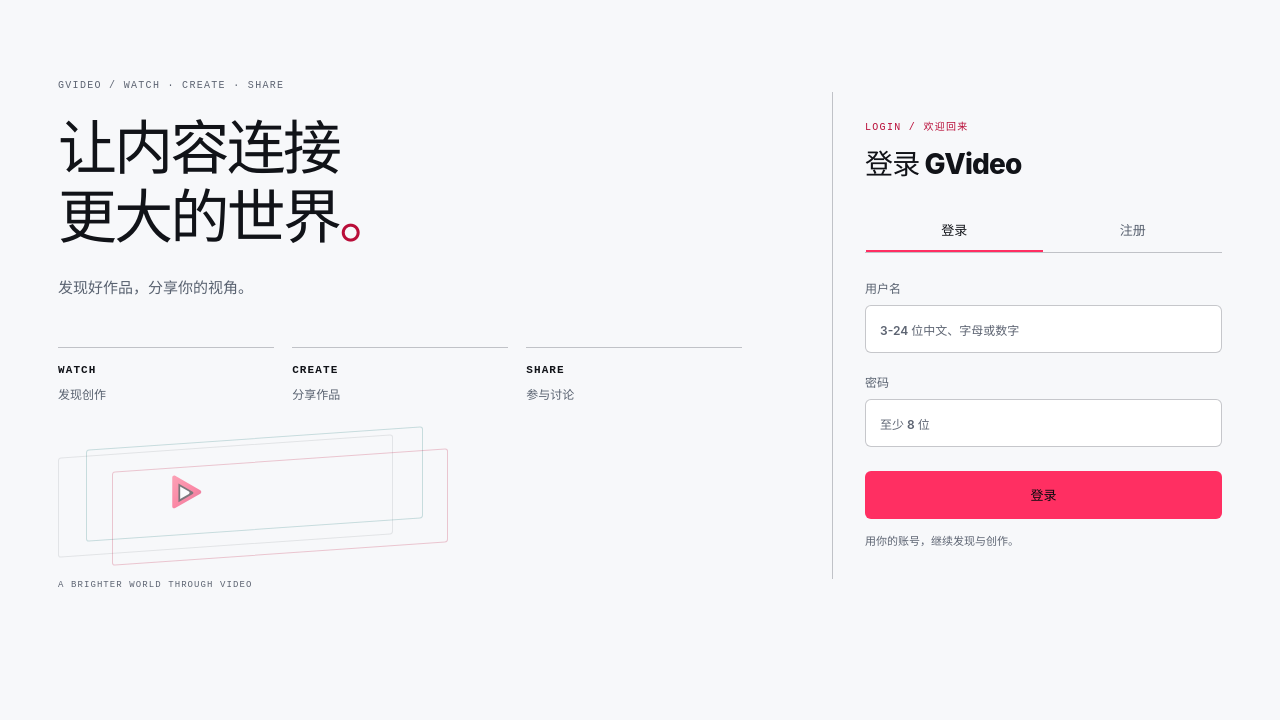
Scenario: AuthPage › keeps keyboard focus in the busy form and returns it to the original field after an error
This screenshot has width=1280, height=720.
Step 1. Type "测试用户" into the field labelled "用户名" → (1044, 329), box [865,305,1222,353]
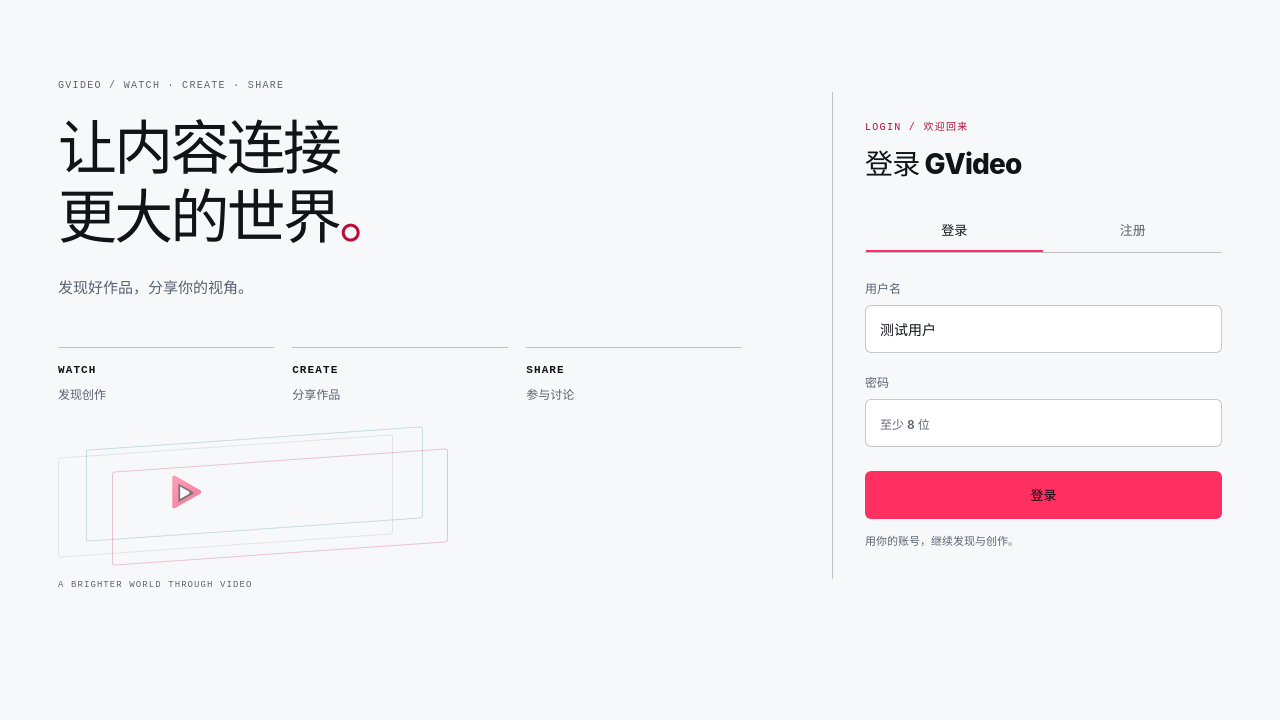
Step 2. Type "password123" into the password field labelled "密码" → (1044, 423), box [865,399,1222,447]
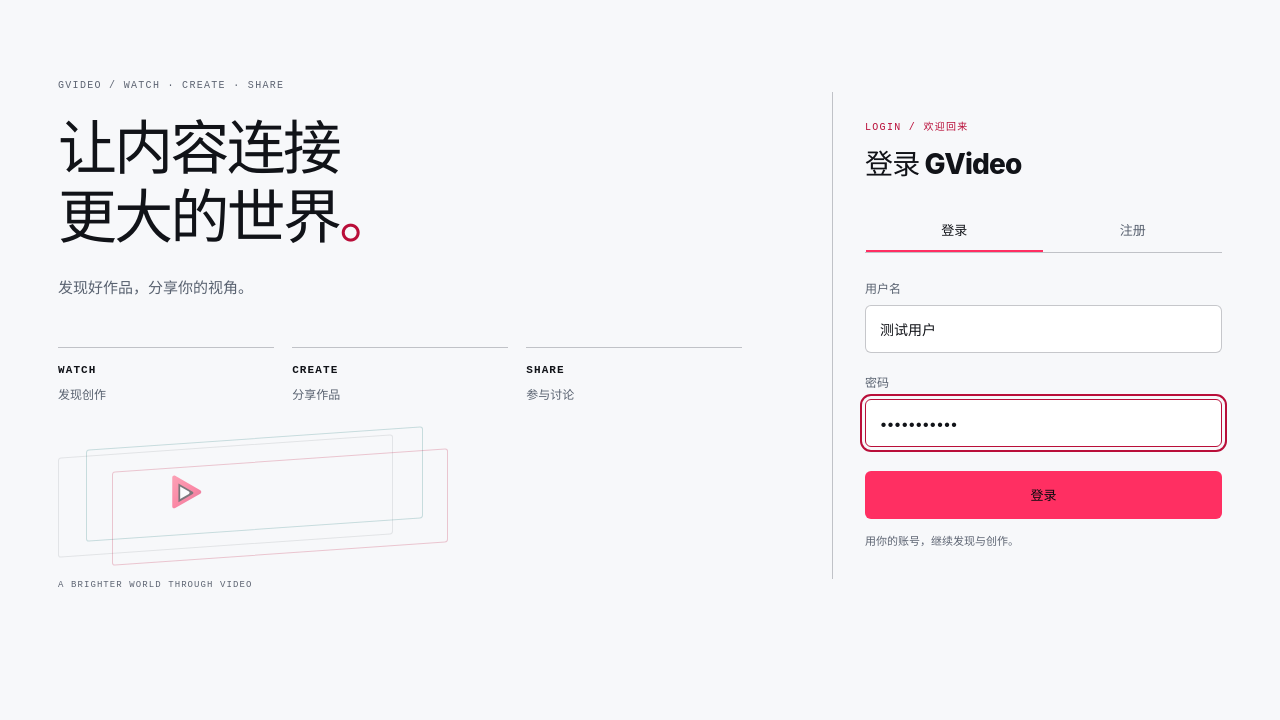
Step 3. Submit the form, box [865,279,1222,551]
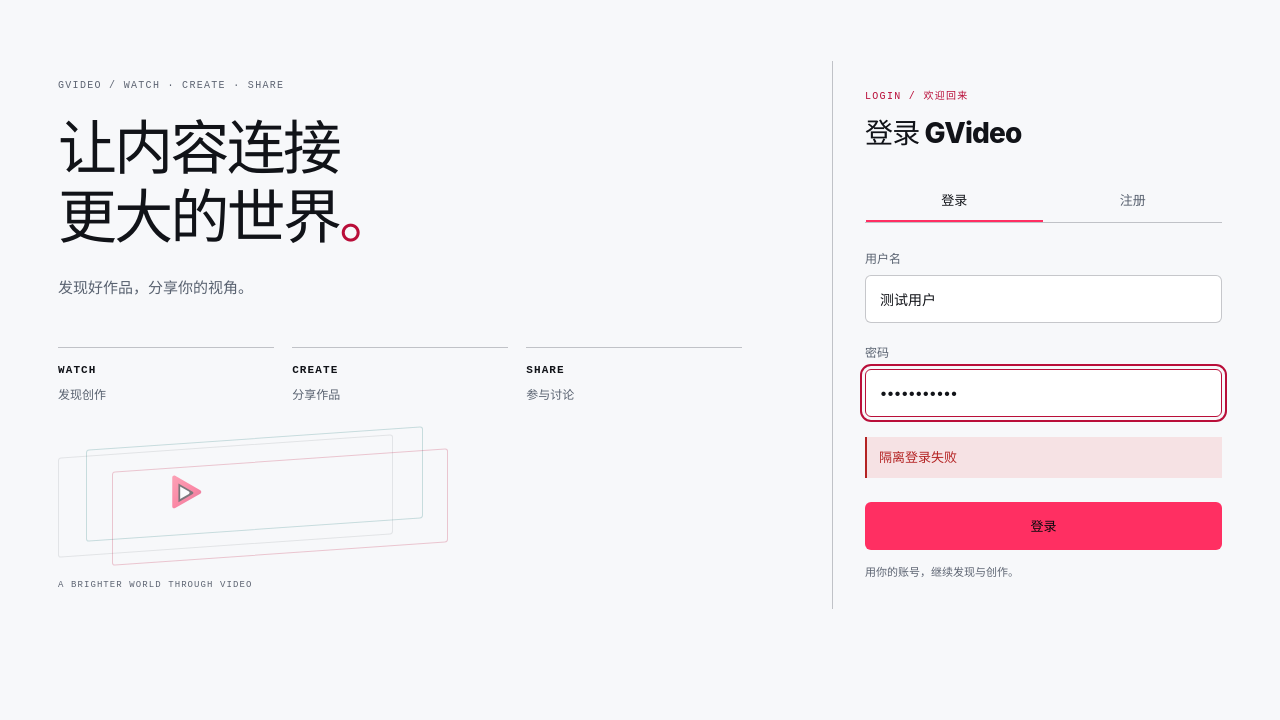
Expected: the message "隔离登录失败" is shown, [865,437,1222,478]
